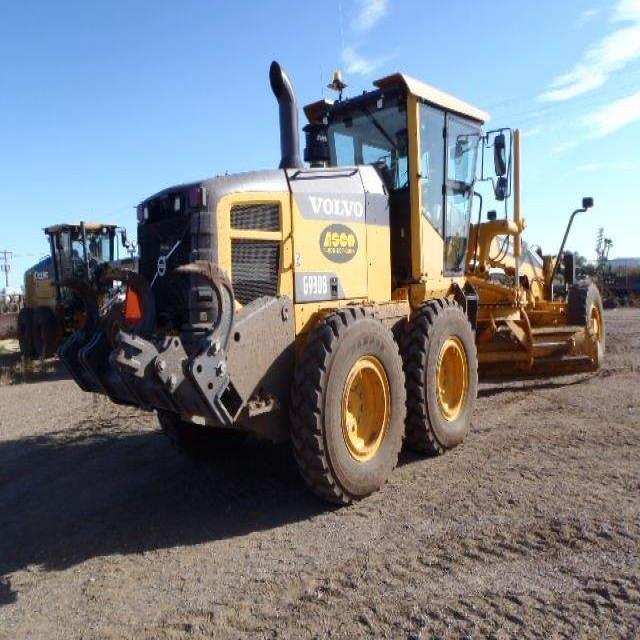Grader: (72, 47, 611, 492)
